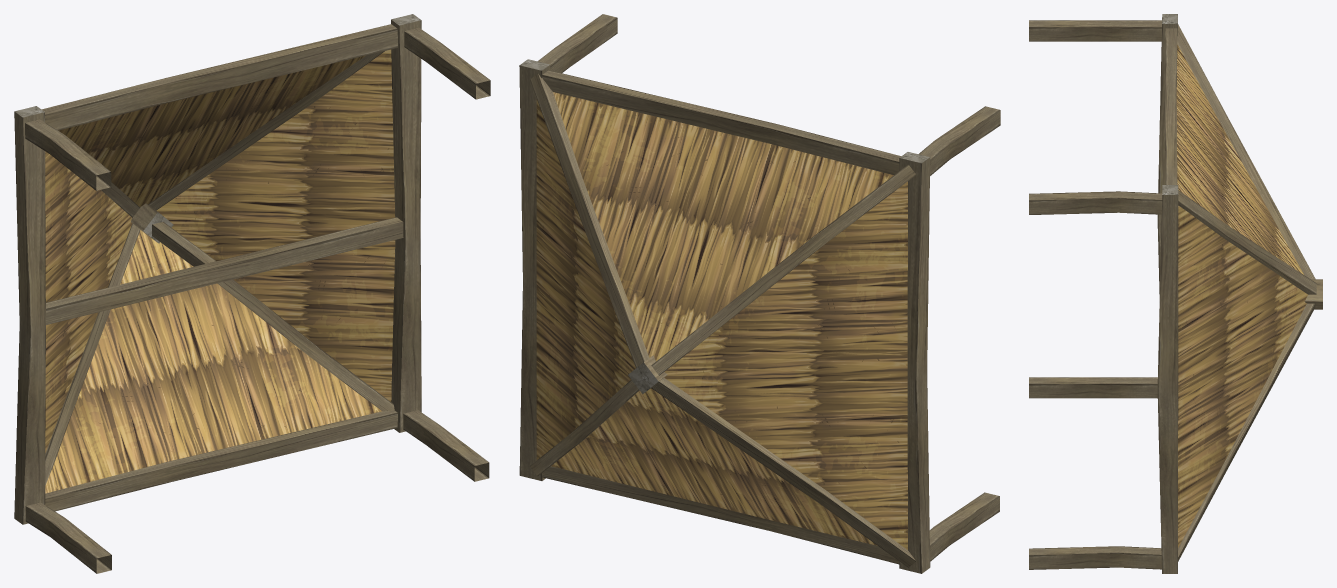
File: Tent_F.fbx
3 views of the same model, side by side, from view 1: azimuth 30°, elevation 25°; view 2: azimuth 150°, elevation 25°; view 3: azimuth 270°, elevation 25° (orthographic). The views are drawn at different scales.
Visible parts, largest first — view 1: Tent_F; view 2: Tent_F; view 3: Tent_F.
Part boxes in pixels (<box>): Tent_F: <box>14,14,490,573</box>; Tent_F: <box>519,14,1000,573</box>; Tent_F: <box>1029,14,1322,573</box>.
Bounding box in the file's own units: 8.57 × 8.37 × 5.87.
